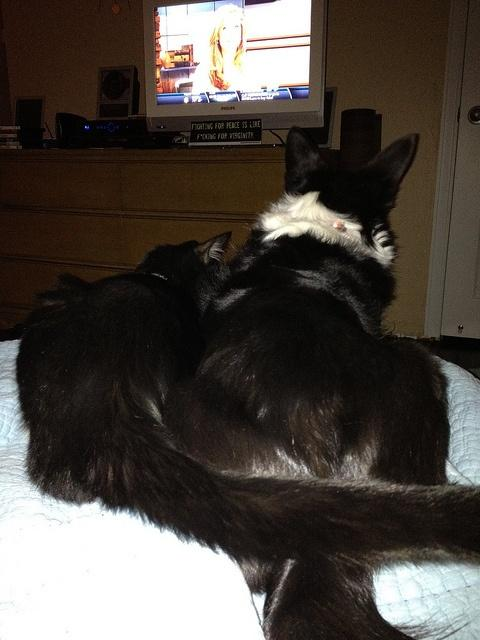AIO PC-Monitor-TV: (140, 0, 327, 134)
